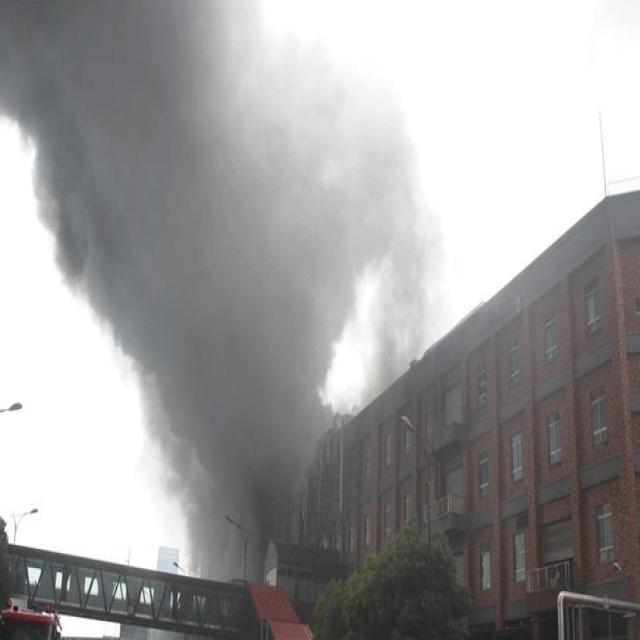Smoke: (0, 0, 437, 567)
